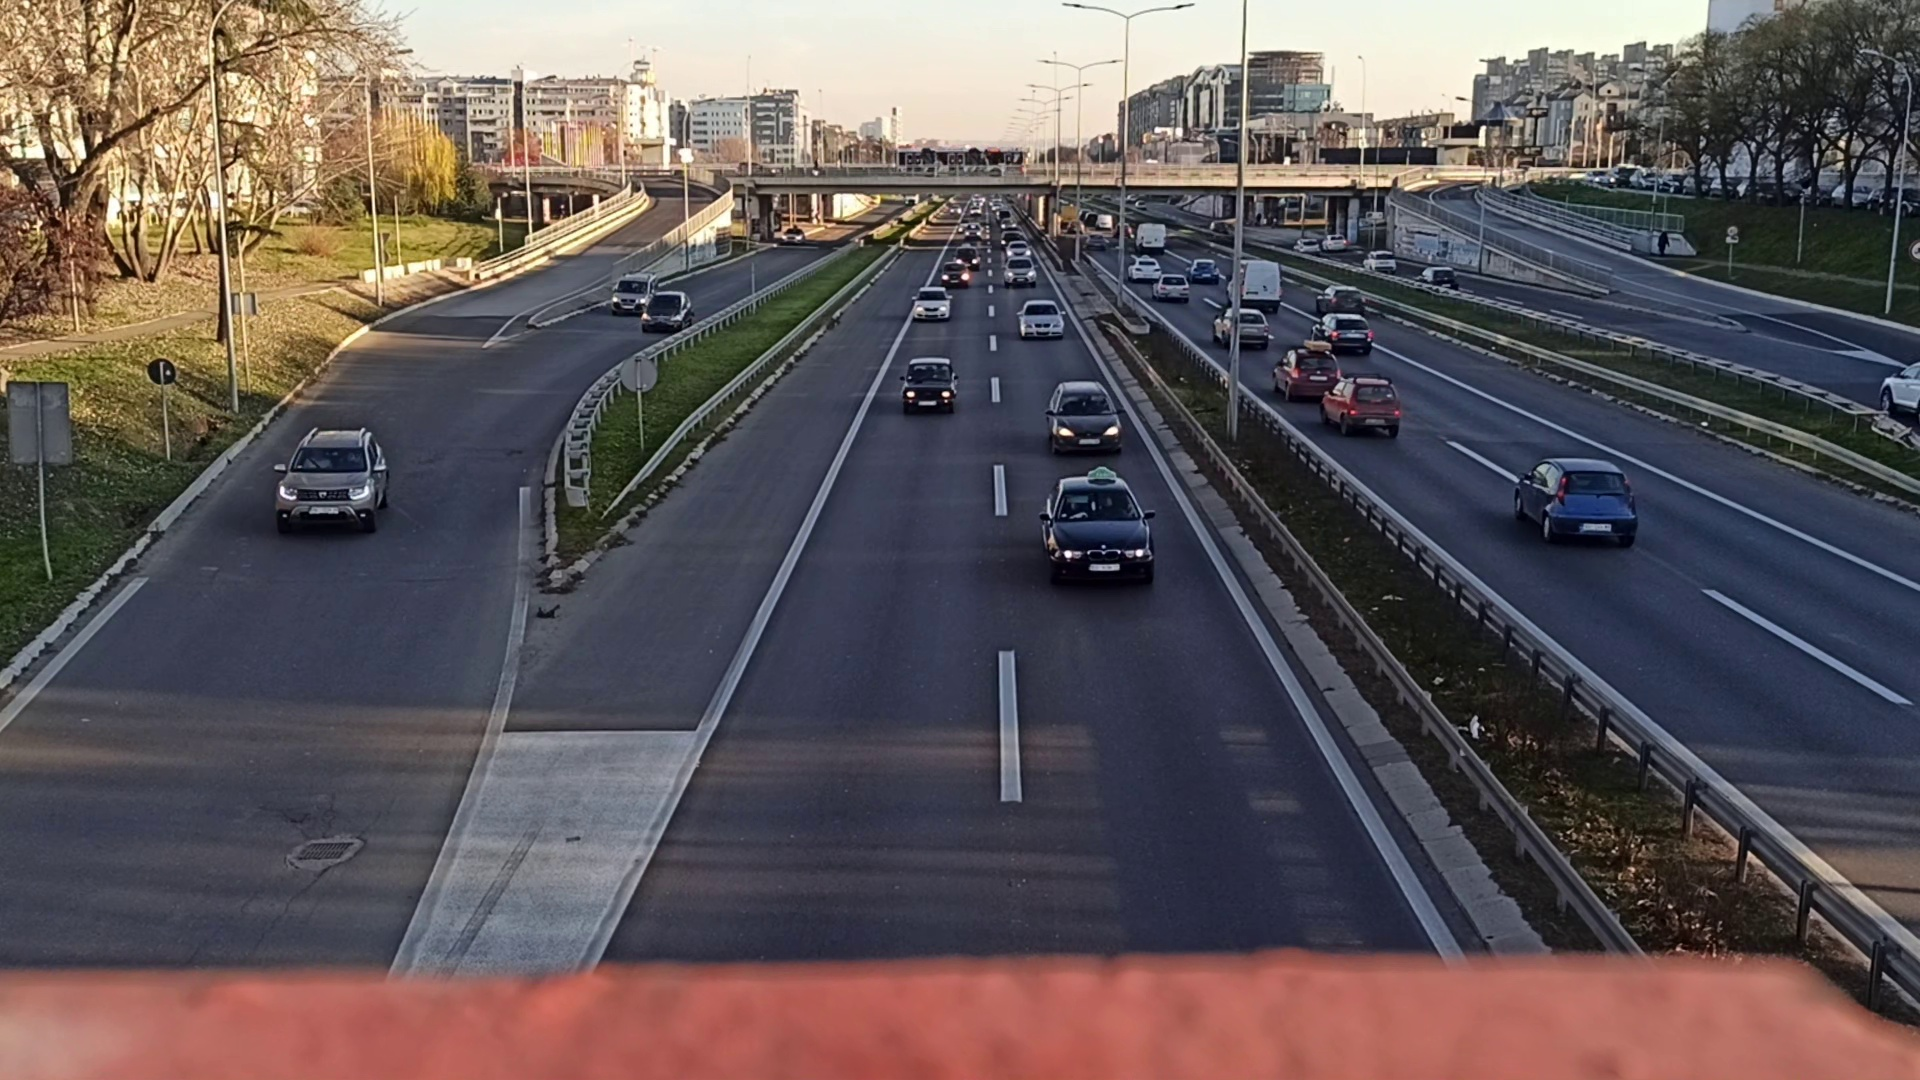car: (1040, 475, 1155, 585), (276, 429, 392, 531), (1516, 459, 1640, 549), (1047, 382, 1122, 450), (1324, 377, 1396, 436), (1273, 344, 1338, 401), (903, 352, 957, 413), (1313, 313, 1375, 355), (1215, 305, 1265, 347), (1015, 297, 1064, 339), (644, 294, 694, 332), (915, 287, 949, 320), (1004, 257, 1035, 284), (942, 262, 969, 284)
van: (1224, 258, 1283, 305), (611, 276, 657, 315)
